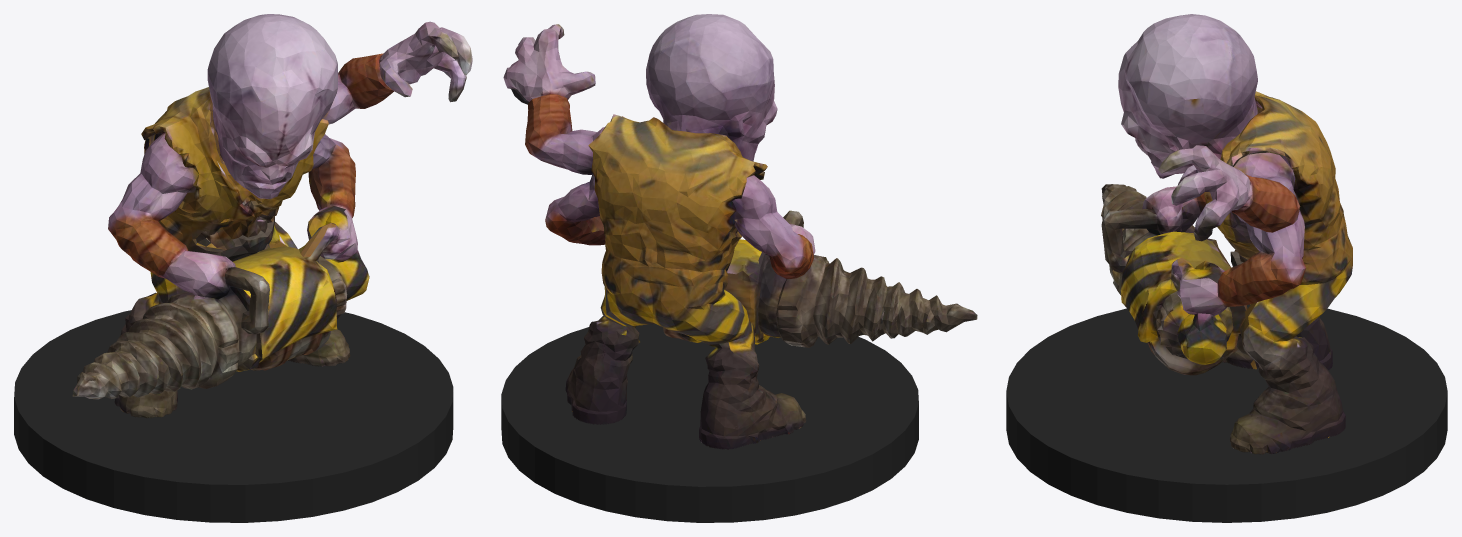
File: acolyte-mining-tool.glb
3 views of the same model, side by side, from view 1: azimuth 30°, elevation 25°; view 2: azimuth 150°, elevation 25°; view 3: azimuth 270°, elevation 25° (orthographic). The views are drawn at different scales.
Parts seen in each view (by area): view 1: figure, base; view 2: figure, base; view 3: figure, base.
Boxes of the visible parts, <box> form: figure: <box>72,14,472,418</box>; base: <box>14,310,453,522</box>; figure: <box>503,14,977,449</box>; base: <box>501,324,918,522</box>; figure: <box>1101,14,1352,454</box>; base: <box>1006,304,1447,522</box>.
Bounding box in the file's own units: 1.46 × 1.32 × 1.26.
2 materials, 1 textured.
